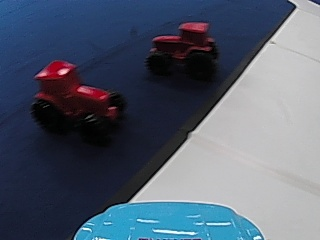tractor: (29, 55, 122, 138), (147, 17, 218, 79)
